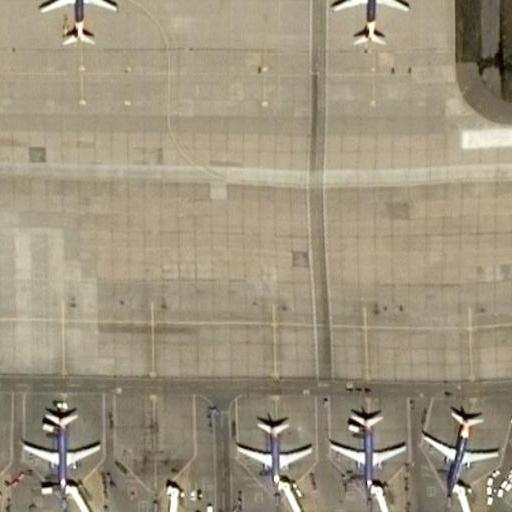Aircraft: (18, 399, 112, 493), (227, 406, 321, 496), (422, 403, 503, 495), (325, 406, 411, 490), (18, 2, 126, 52), (314, 1, 411, 48)
